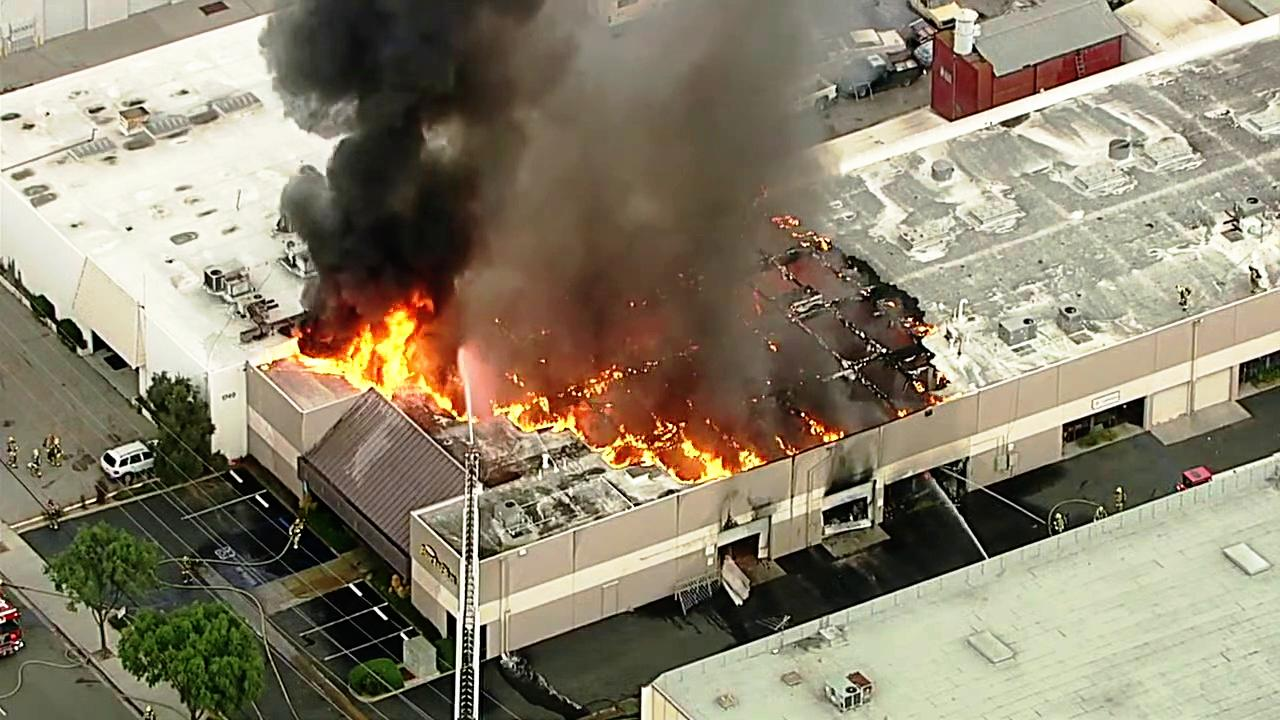fire: (311, 314, 434, 386)
smoke: (282, 0, 484, 280)
